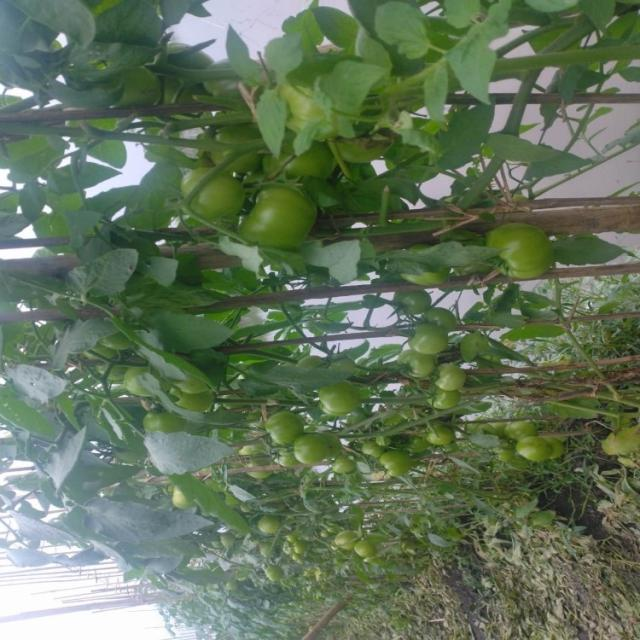tomato: (484, 203, 563, 292), (182, 160, 257, 229), (242, 189, 313, 256), (261, 135, 334, 189), (399, 319, 467, 370), (310, 382, 368, 429), (384, 277, 437, 320), (371, 449, 429, 487), (389, 343, 441, 385), (520, 432, 568, 473), (486, 413, 542, 448), (290, 435, 334, 478), (419, 359, 471, 393), (133, 408, 189, 437), (419, 418, 460, 457), (356, 425, 400, 461), (421, 387, 467, 421), (114, 358, 153, 395), (262, 409, 300, 444), (156, 490, 195, 517), (240, 459, 272, 491), (252, 514, 279, 548), (330, 531, 360, 560), (281, 531, 311, 557), (300, 565, 327, 591), (235, 444, 258, 470), (262, 562, 283, 582), (352, 548, 373, 566)
